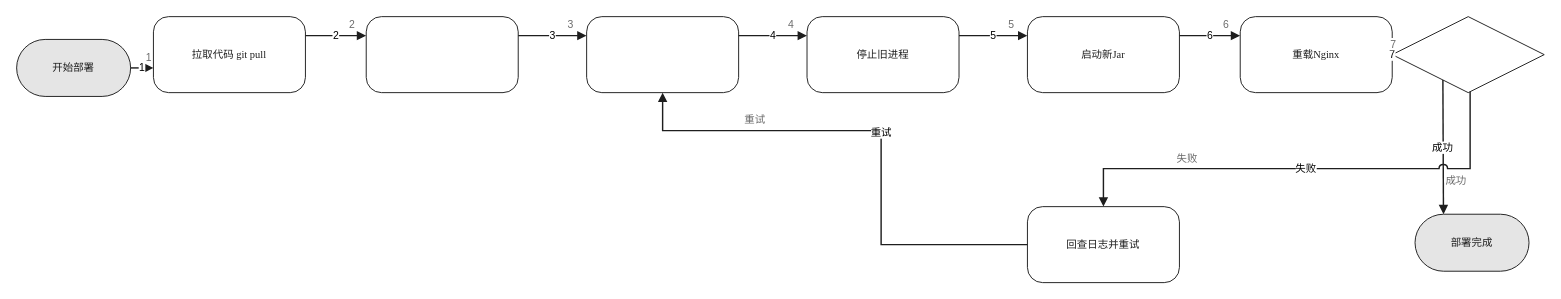
The diagram is 1561 pixels wide and 299 high, and some of its shapes have lost their labels. Here are the shapes that lost their labels. From the top down, the box of each, then its label:
(365, 16, 518, 93): 前端构建 npm run build
(586, 16, 739, 93): 后端打包 mvn package -DskipTests
(1391, 16, 1544, 93): 访问页面与API
